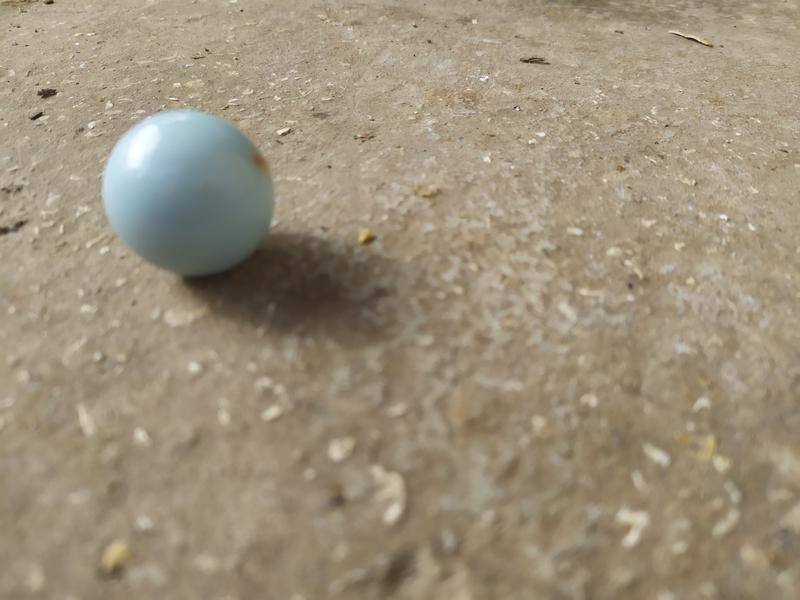Warning: (96, 105, 281, 282)
